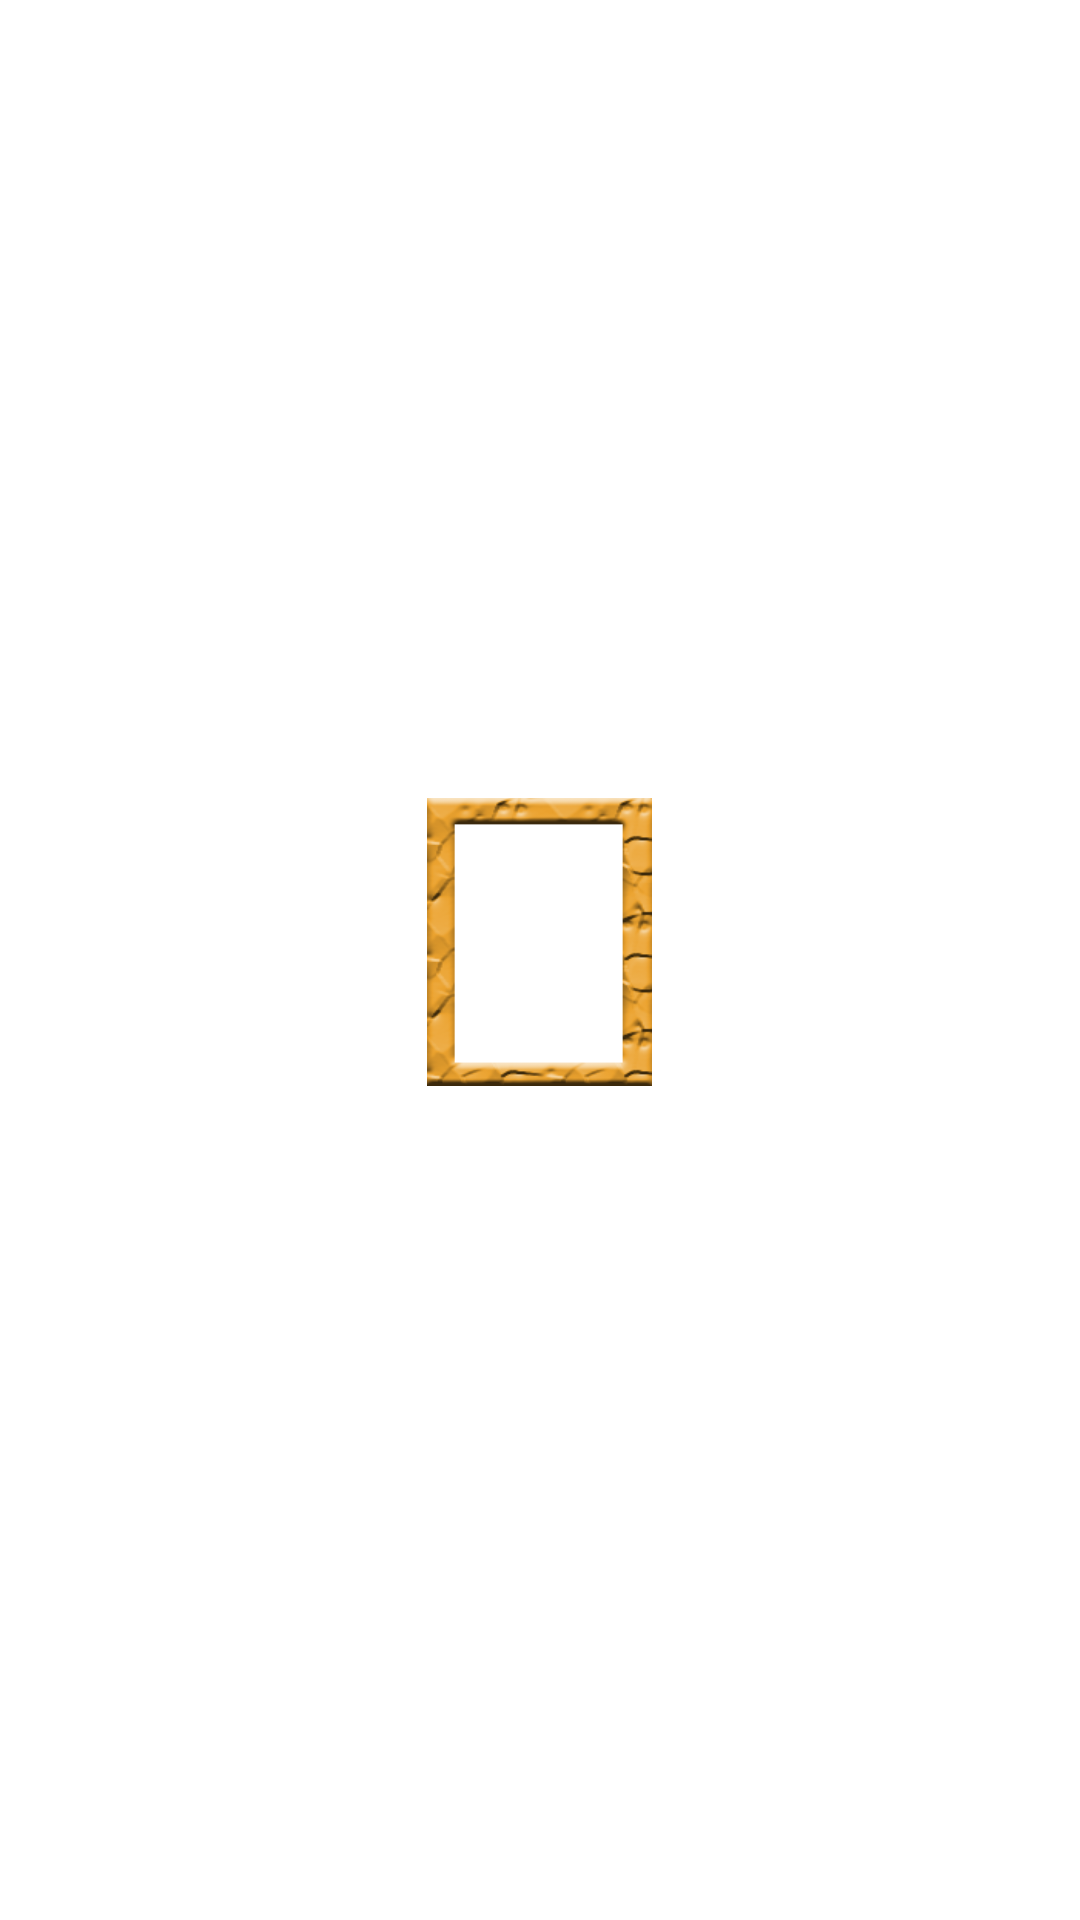

Named icons in this screenshot (1080 × 1920) and their bounding boxes, bbox=[x1, y1, x2, y2]:
album frame: bbox=[427, 798, 652, 1086]
